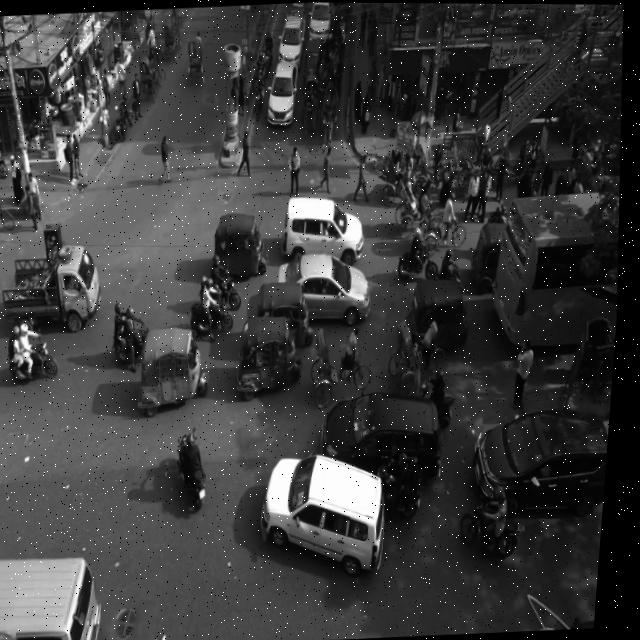cng: (136, 315, 228, 423), (209, 196, 280, 292), (401, 267, 476, 352), (242, 311, 309, 401), (469, 217, 526, 301), (259, 279, 316, 345)
rikshaw: (302, 306, 385, 413), (391, 301, 462, 386), (173, 21, 226, 108), (376, 128, 433, 206), (397, 166, 441, 239), (294, 65, 327, 141), (317, 82, 347, 152), (131, 53, 172, 104)
